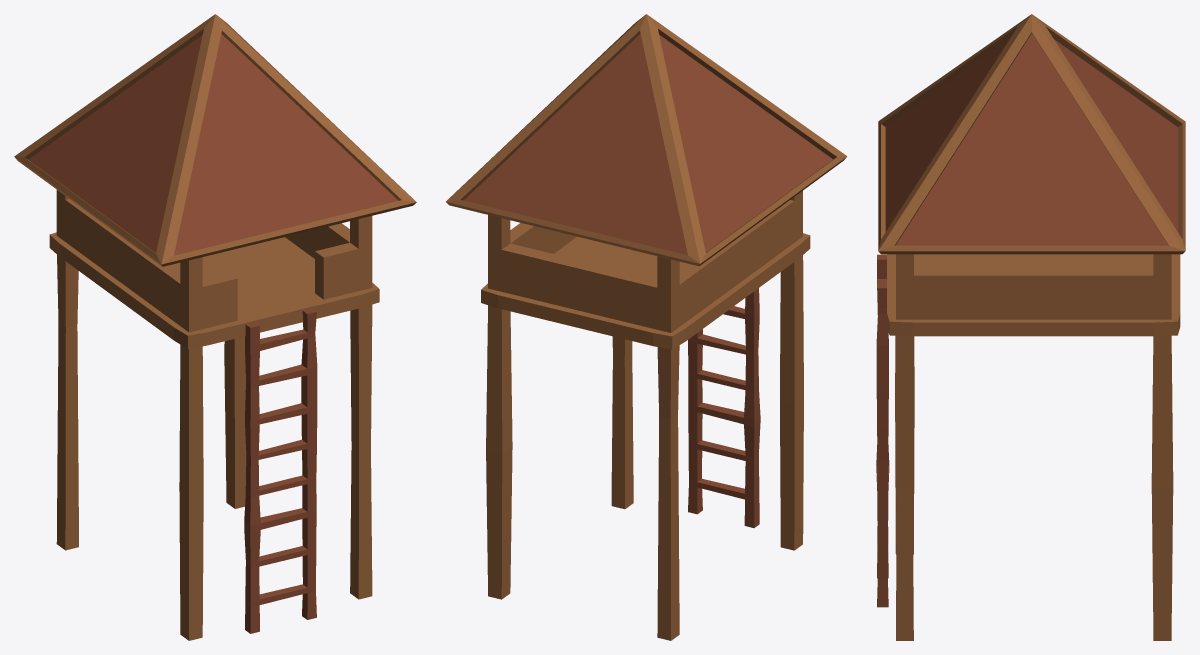
The model's file is Watch_Tower.fbx.
3 renders of one model, left to right at view 1: azimuth 30°, elevation 25°; view 2: azimuth 150°, elevation 25°; view 3: azimuth 270°, elevation 25°, orthographic. The views are drawn at different scales.
Visible parts, largest first — view 1: Tower; view 2: Tower; view 3: Tower.
Part boxes in pixels (bbox=[...]): Tower: bbox=[14, 14, 416, 640]; Tower: bbox=[446, 14, 847, 640]; Tower: bbox=[876, 14, 1185, 640].
Size of the model in its own units: 522 by 1087 by 525.
